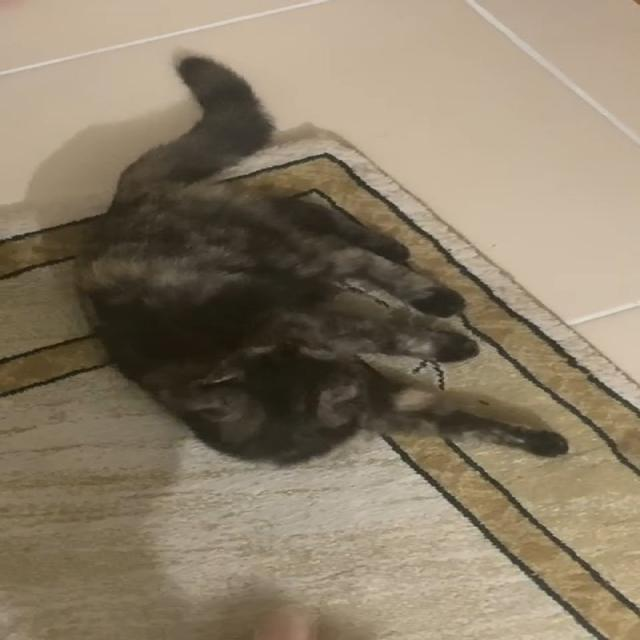authorized: (71, 48, 569, 466)
